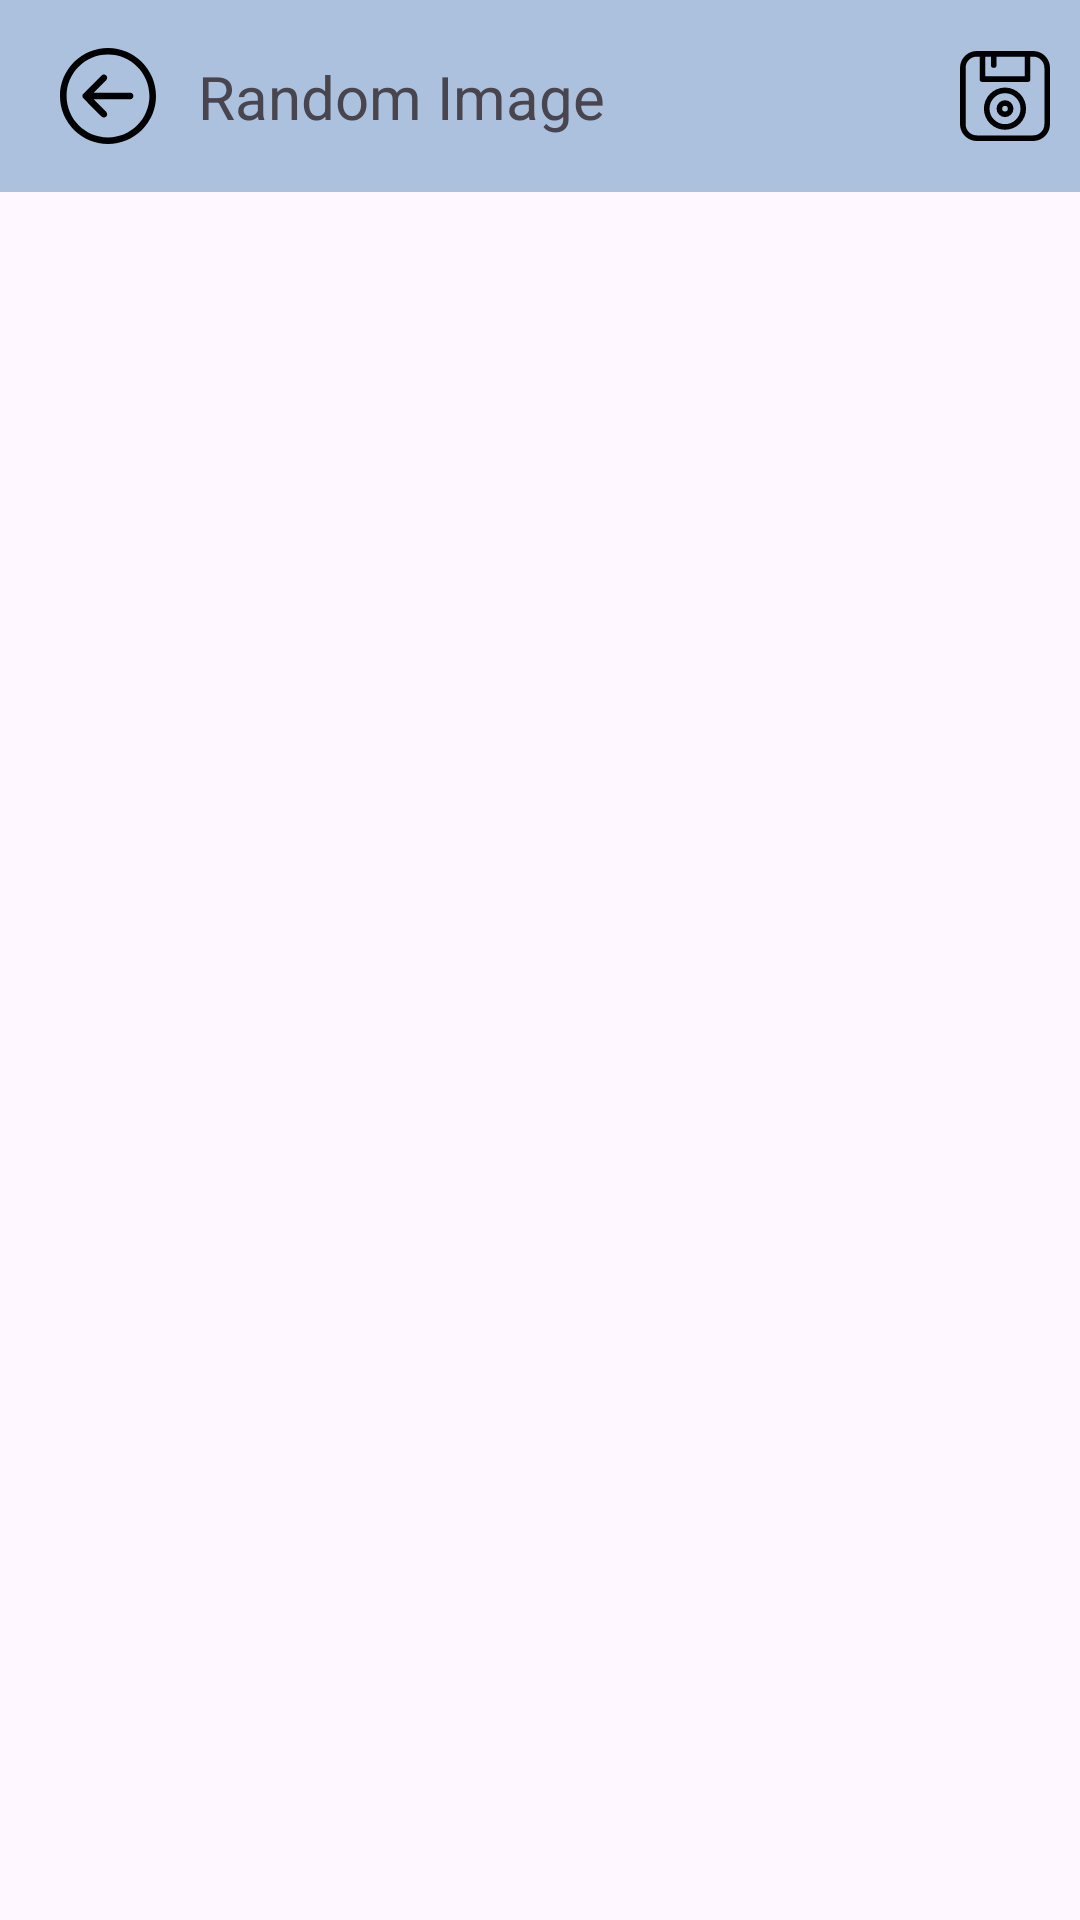

Icons on this 1080 × 1920 Android screen, each with the point to tap as (x=x, y=y):
back: (x=108, y=96)
save: (x=1005, y=96)
